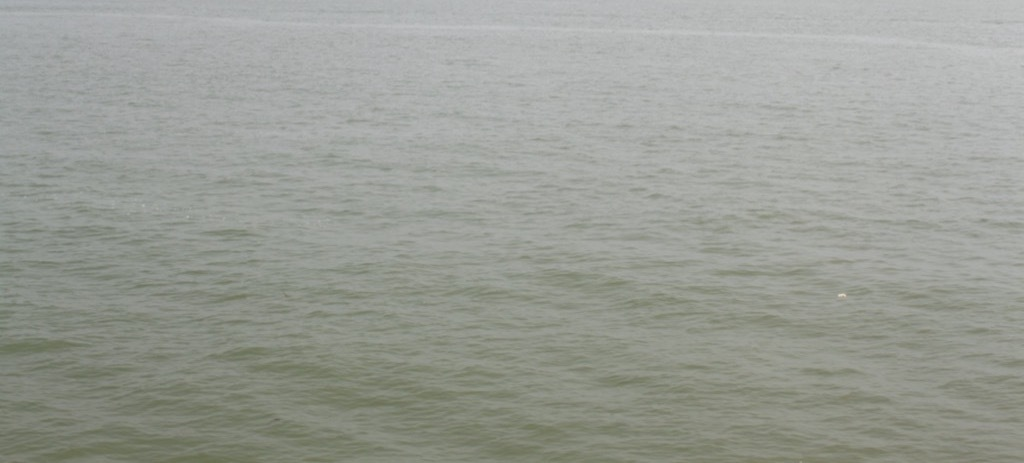plastic: (829, 281, 855, 310)
